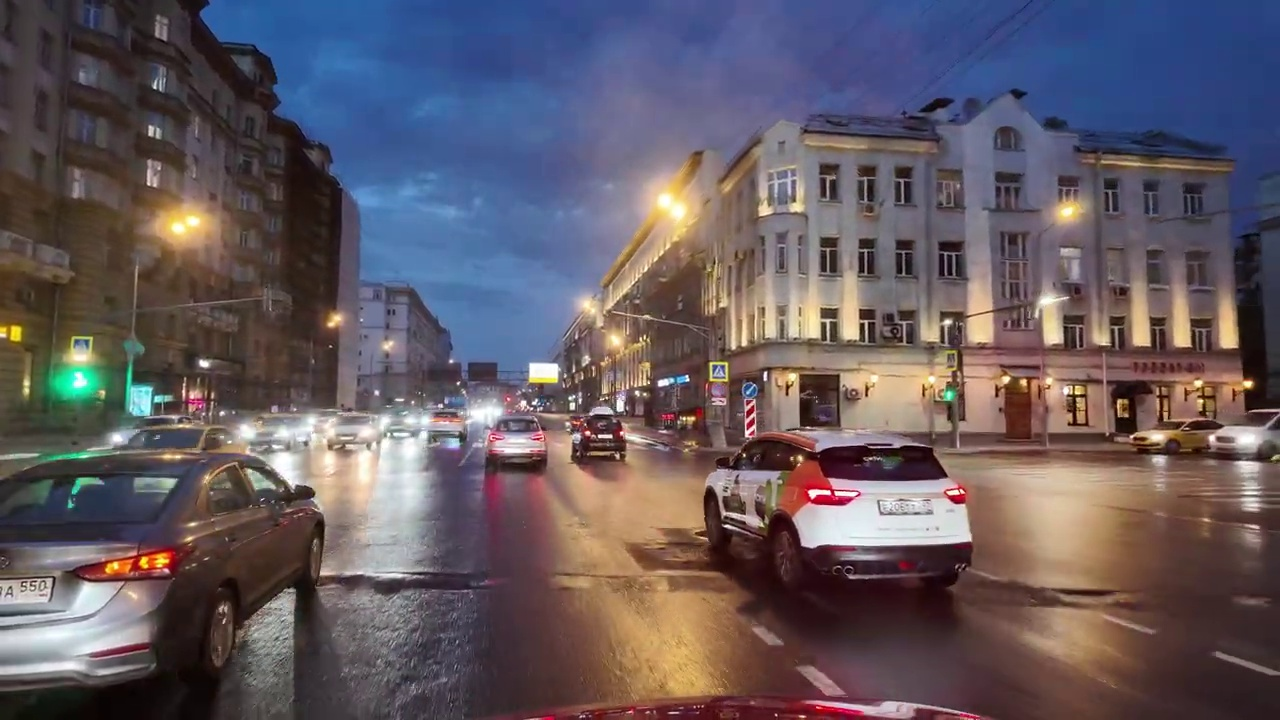acesa: (651, 186, 694, 231), (160, 208, 209, 245), (1052, 198, 1084, 226), (322, 309, 347, 332), (579, 296, 601, 319)
apagada: (1006, 87, 1026, 106)
